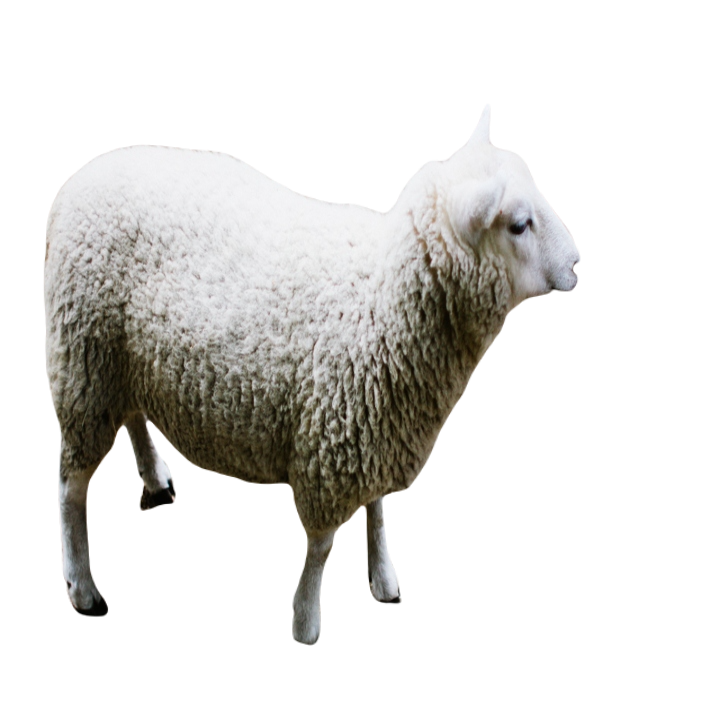Sheep: (37, 104, 587, 653)
